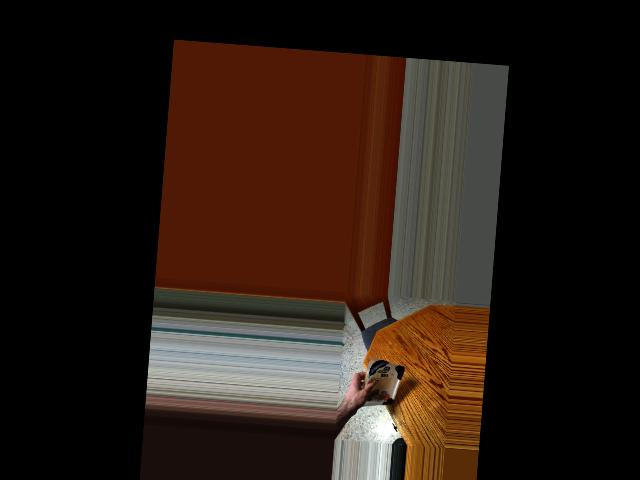cheese: (361, 355, 402, 414)
